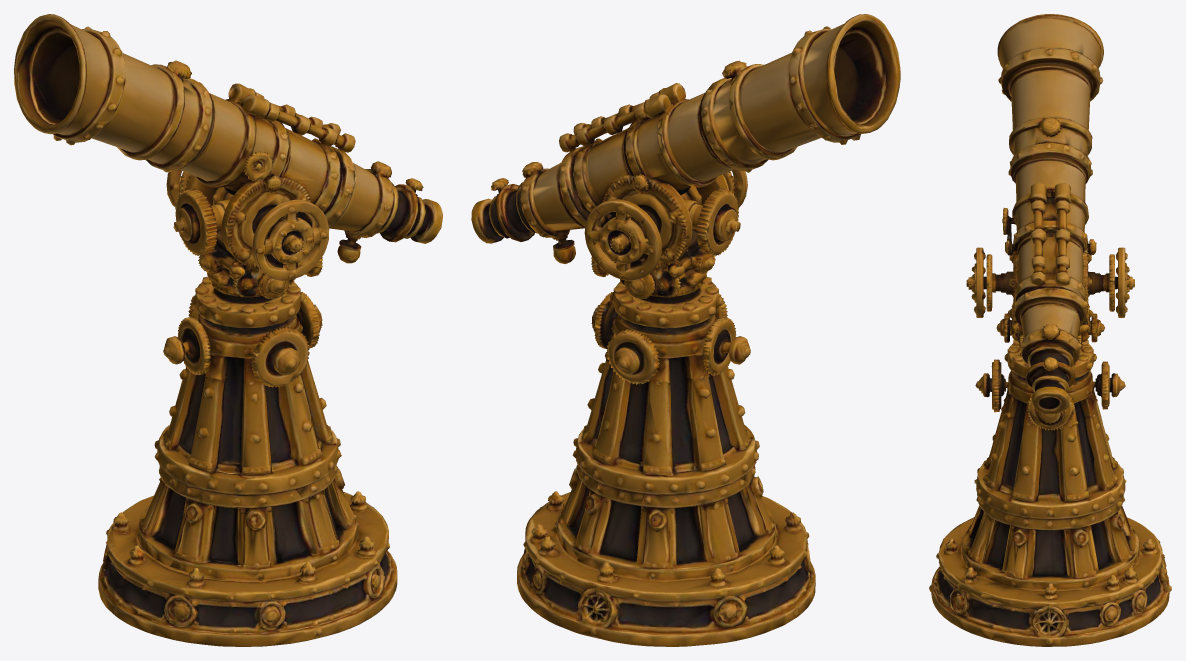
File: prop_telescope.glb
The picture shows the model from 3 angles, left to right: view 1: azimuth 30°, elevation 25°; view 2: azimuth 150°, elevation 25°; view 3: azimuth 270°, elevation 25°; orthographic projection. The views are drawn at different scales.
Parts seen in each view (by area): view 1: tripo_node_d8fcd63f-e571-4bd2-b94f-ca067812ba53; view 2: tripo_node_d8fcd63f-e571-4bd2-b94f-ca067812ba53; view 3: tripo_node_d8fcd63f-e571-4bd2-b94f-ca067812ba53.
Part boxes in pixels (bbox=[...]): tripo_node_d8fcd63f-e571-4bd2-b94f-ca067812ba53: bbox=[14, 14, 442, 646]; tripo_node_d8fcd63f-e571-4bd2-b94f-ca067812ba53: bbox=[471, 14, 900, 646]; tripo_node_d8fcd63f-e571-4bd2-b94f-ca067812ba53: bbox=[929, 14, 1171, 646].
Bounding box in the file's own units: 0.6756 × 0.9795 × 0.4263.
1 material, 1 textured.
